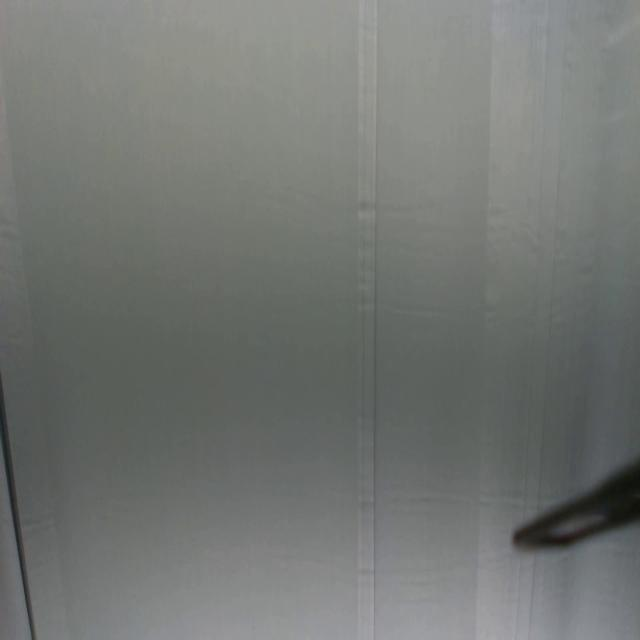crease: (529, 0, 568, 504), (356, 0, 380, 639), (0, 365, 38, 640)
